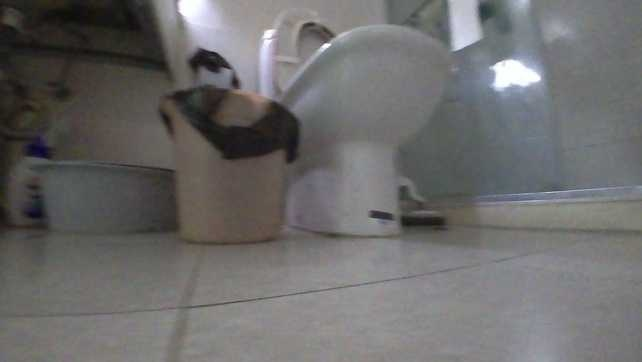toilet: (258, 0, 454, 238)
trash_can: (156, 83, 303, 244)
